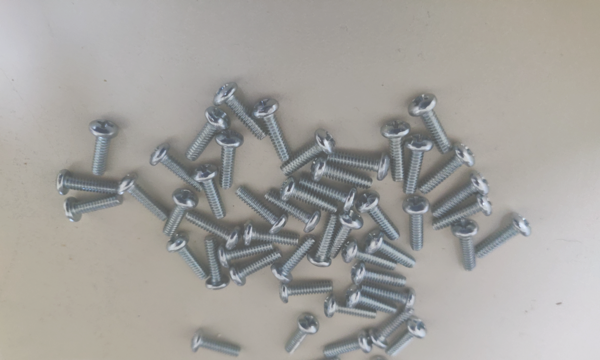shortscrew: (213, 81, 269, 140), (418, 143, 476, 195), (149, 143, 204, 192), (280, 129, 336, 177), (264, 188, 322, 234), (117, 172, 170, 222), (408, 94, 452, 154), (431, 174, 490, 218), (476, 213, 532, 259), (252, 99, 292, 163), (235, 187, 289, 234), (186, 107, 231, 161), (297, 174, 359, 213), (186, 210, 243, 250), (357, 190, 401, 241), (433, 194, 492, 232), (186, 211, 243, 250), (280, 178, 339, 214), (271, 236, 316, 283), (311, 155, 373, 189), (166, 233, 210, 280), (364, 230, 418, 268), (230, 249, 282, 287), (327, 151, 391, 181), (192, 164, 226, 220), (370, 307, 415, 349), (381, 120, 411, 182), (162, 188, 199, 238), (328, 209, 364, 260), (64, 193, 123, 223), (342, 240, 398, 271), (56, 170, 119, 197), (215, 131, 244, 189), (386, 317, 427, 358), (306, 213, 337, 267), (360, 282, 417, 311), (89, 119, 118, 175), (191, 328, 242, 359), (243, 221, 301, 248), (403, 195, 430, 252), (285, 313, 320, 354), (352, 262, 407, 288), (452, 219, 479, 271), (324, 294, 378, 320), (205, 237, 230, 291), (324, 330, 372, 358), (218, 243, 274, 267), (279, 280, 333, 304), (295, 356, 341, 360), (369, 356, 391, 360)
